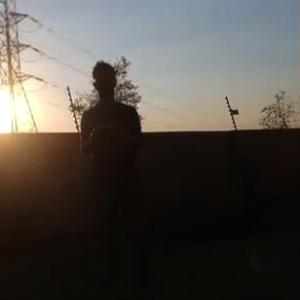follow: (79, 53, 167, 284)
